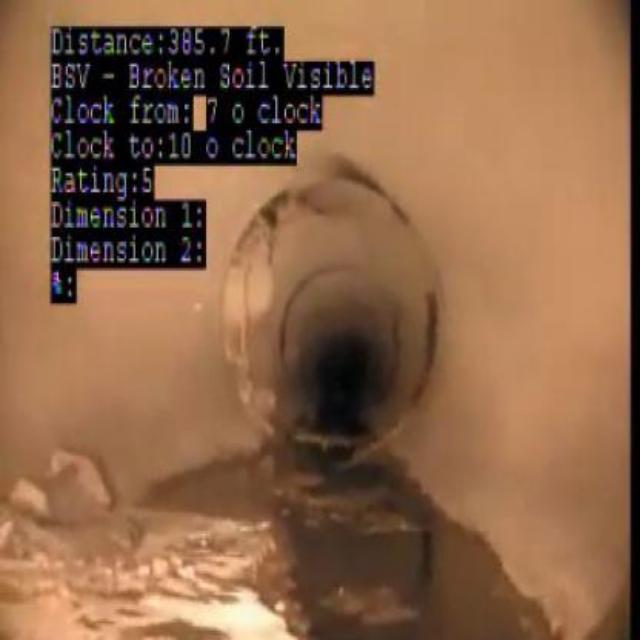Obstacle: (0, 417, 306, 638)
